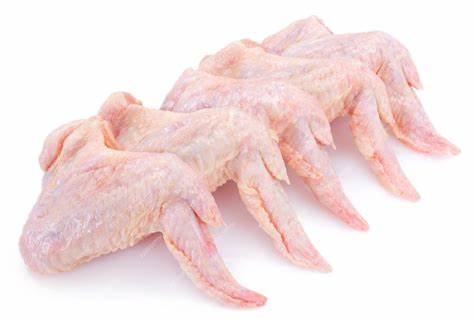Chicken: (9, 113, 268, 315), (95, 88, 337, 280), (194, 35, 422, 208), (150, 64, 374, 236), (251, 13, 465, 165)
